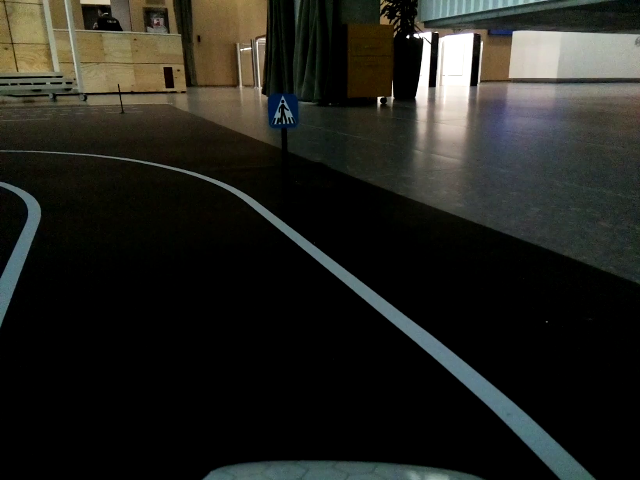pedestrians: (269, 96, 299, 127)
